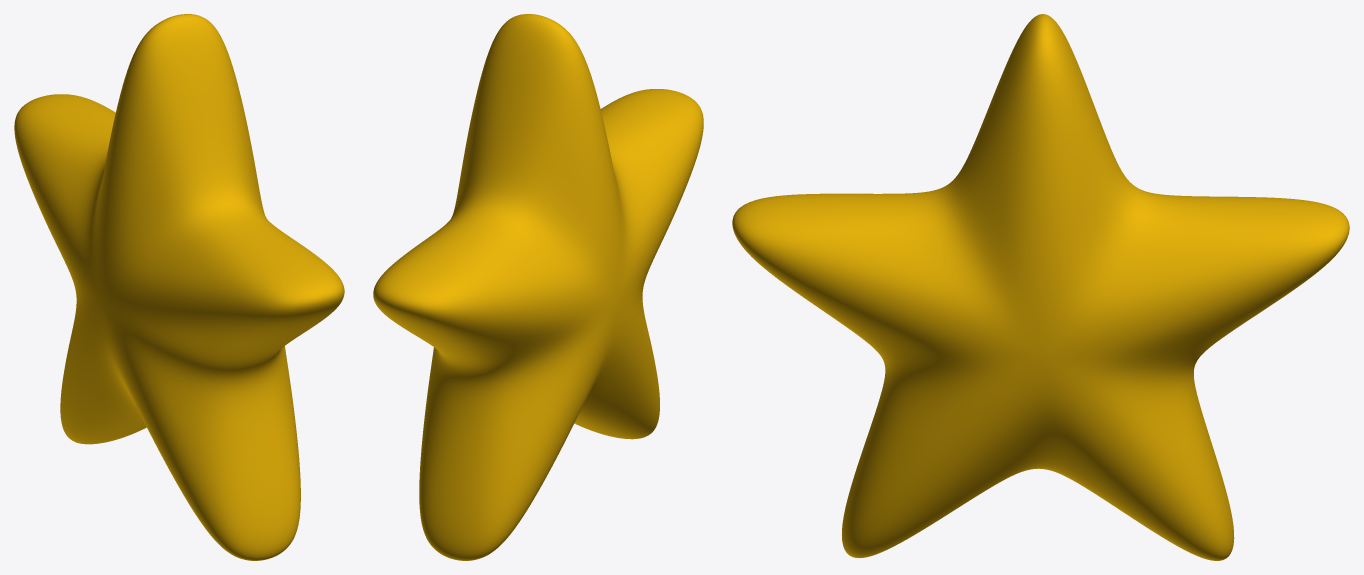
File: Star.fbx
3 renders of one model, left to right at view 1: azimuth 30°, elevation 25°; view 2: azimuth 150°, elevation 25°; view 3: azimuth 270°, elevation 25°, orthographic. The views are drawn at different scales.
Visible parts, largest first — view 1: Circle.001; view 2: Circle.001; view 3: Circle.001.
Part boxes in pixels (left/top/right/bottom): Circle.001: left=14, top=14, right=344, bottom=560; Circle.001: left=373, top=14, right=703, bottom=560; Circle.001: left=732, top=14, right=1349, bottom=560.
Size of the model in its own units: 145 by 429 by 449.
